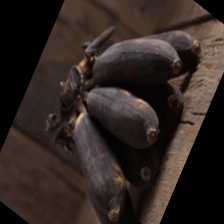banana: (55, 20, 203, 217)
